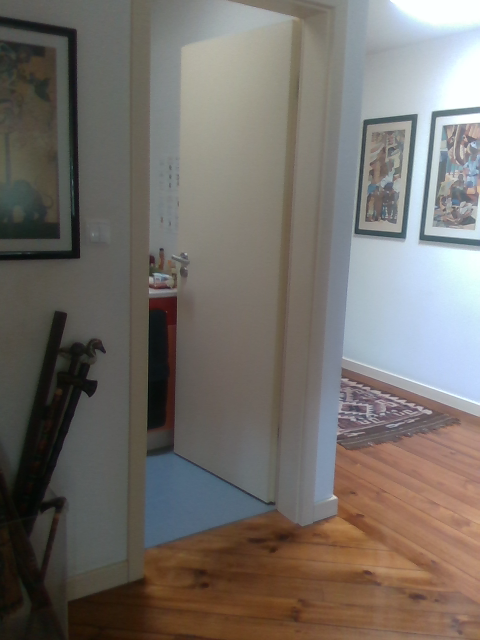open: (172, 0, 350, 525)
